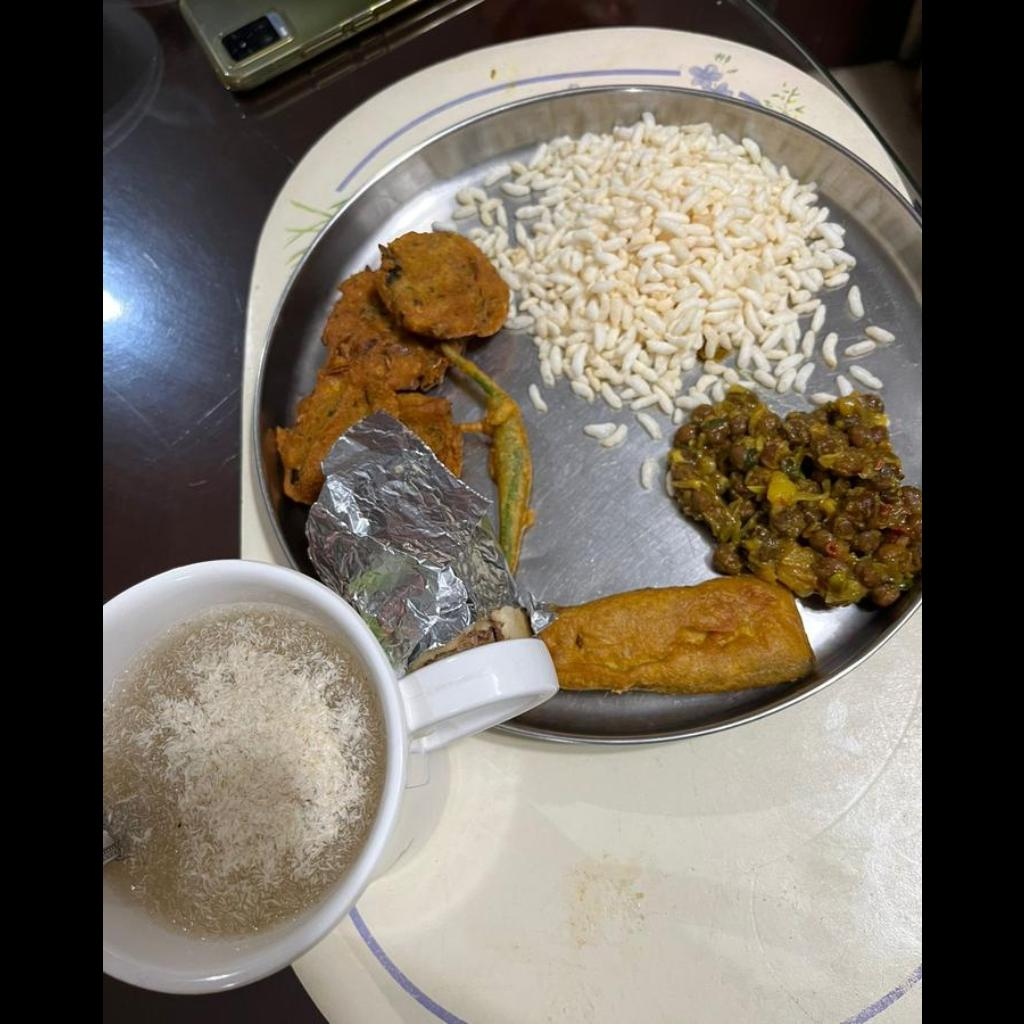beguni: (539, 577, 812, 694)
chola: (659, 391, 919, 600)
juice: (102, 620, 377, 933)
peyaju: (277, 235, 500, 489)
puffed-rice: (454, 114, 854, 438)
